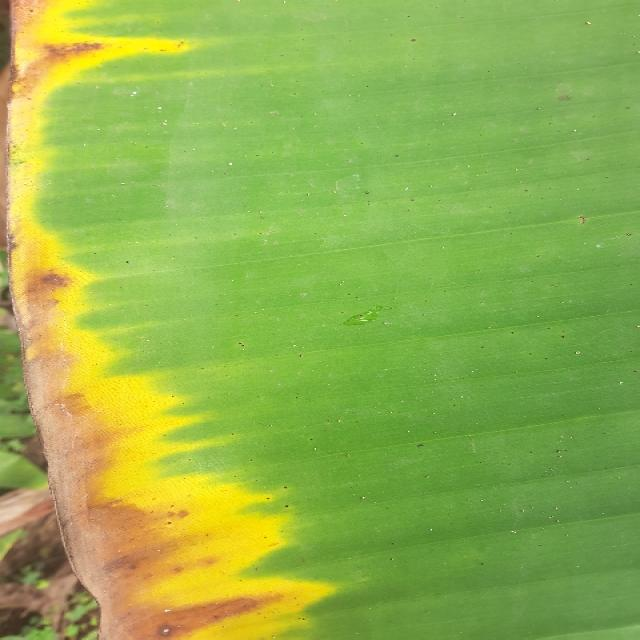Cordana: (0, 0, 378, 639)
